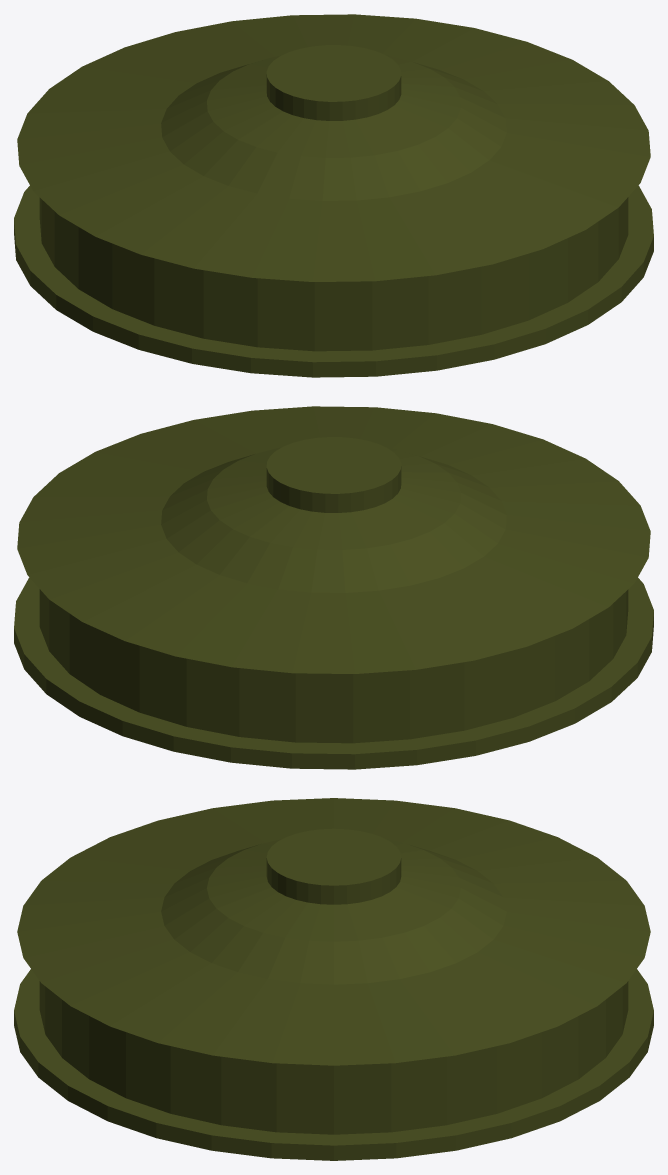
The model's file is landmine.fbx.
3 views of the same model, one above another, from view 1: azimuth 30°, elevation 25°; view 2: azimuth 150°, elevation 25°; view 3: azimuth 270°, elevation 25° (orthographic).
Parts seen in each view (by area): view 1: Cylinder; view 2: Cylinder; view 3: Cylinder.
Part boxes in pixels (x1=…): Cylinder: x1=14, y1=14, x2=653, y2=377; Cylinder: x1=14, y1=406, x2=653, y2=769; Cylinder: x1=14, y1=798, x2=653, y2=1160.
Bounding box in the file's own units: 200 × 200 × 58.11.
